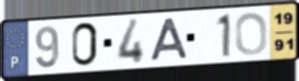0: (70, 21, 99, 69)
1: (214, 12, 233, 59)
4: (115, 17, 146, 66)
9: (33, 25, 60, 70)
A: (148, 16, 190, 63)
O: (234, 11, 269, 57)
